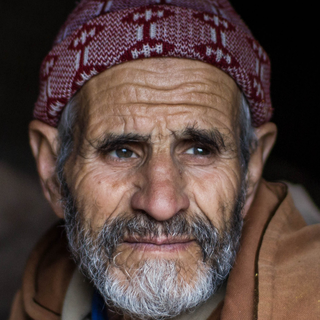eye: (94, 138, 149, 168), (174, 139, 221, 166)
